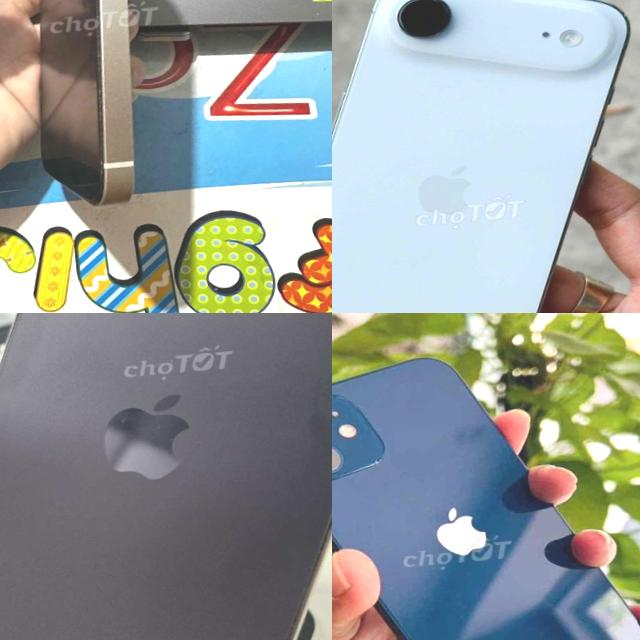gen_12_13: (332, 335, 640, 640), (23, 0, 184, 214)
gen_14: (0, 313, 332, 640)
gen_17: (332, 0, 640, 313)
